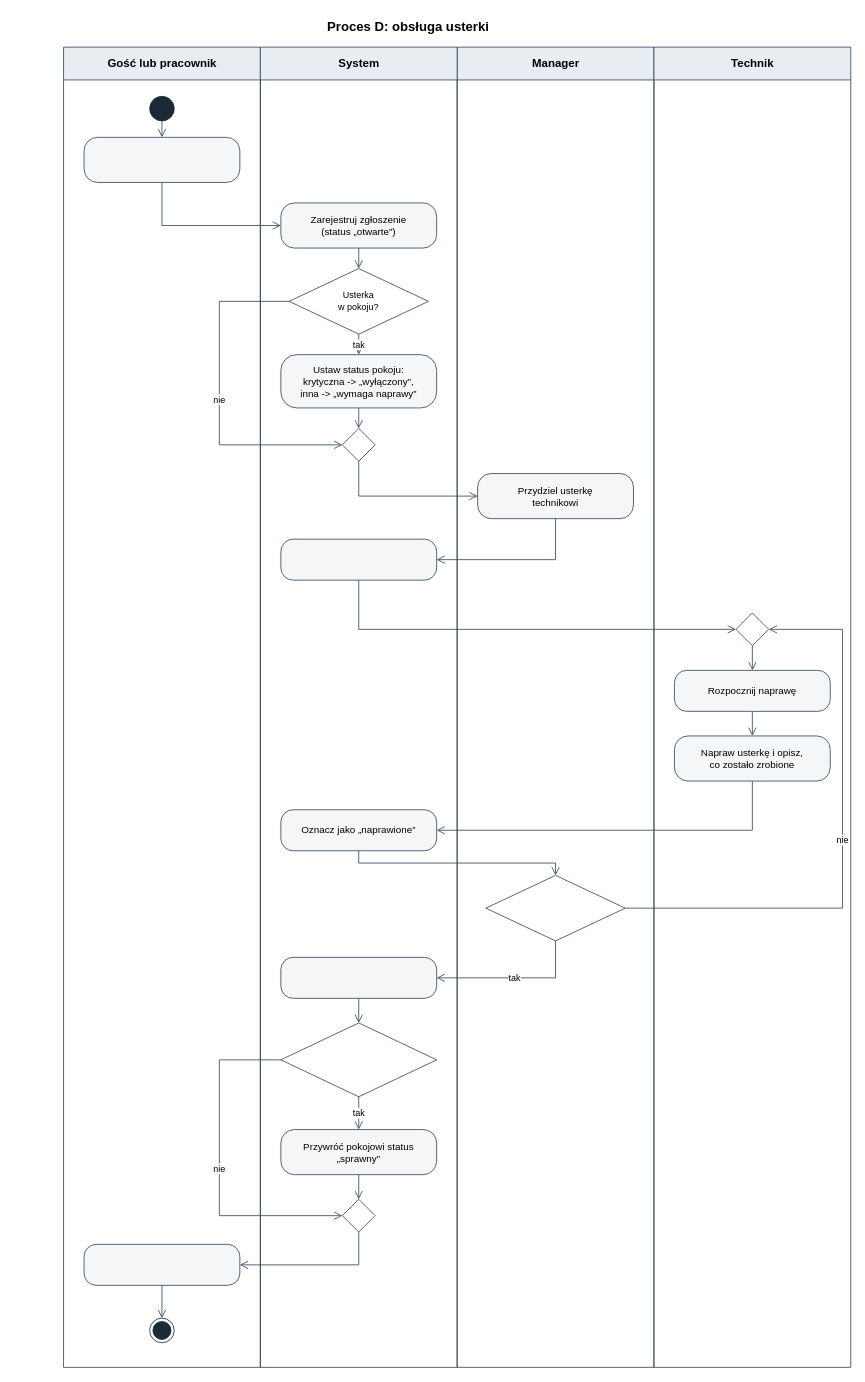
Some shapes in this 865 by 1382 pixel diagram are drawn without their labels. The centre of each missing label's shape, as x and y in pixels:
"Naprawa skuteczna?" belongs at pixel 555 908.
"Powiadom technika" belongs at pixel 358 559.
"Usterka w pokoju i brak innych otwartych?" belongs at pixel 358 1059.
"Zamknij zgłoszenie" belongs at pixel 358 977.
"Zgłoś usterkę: miejsce, kategoria, priorytet, opis" belongs at pixel 161 159.
"Zobacz, że zgłoszenie jest zamknięte" belongs at pixel 161 1264.
